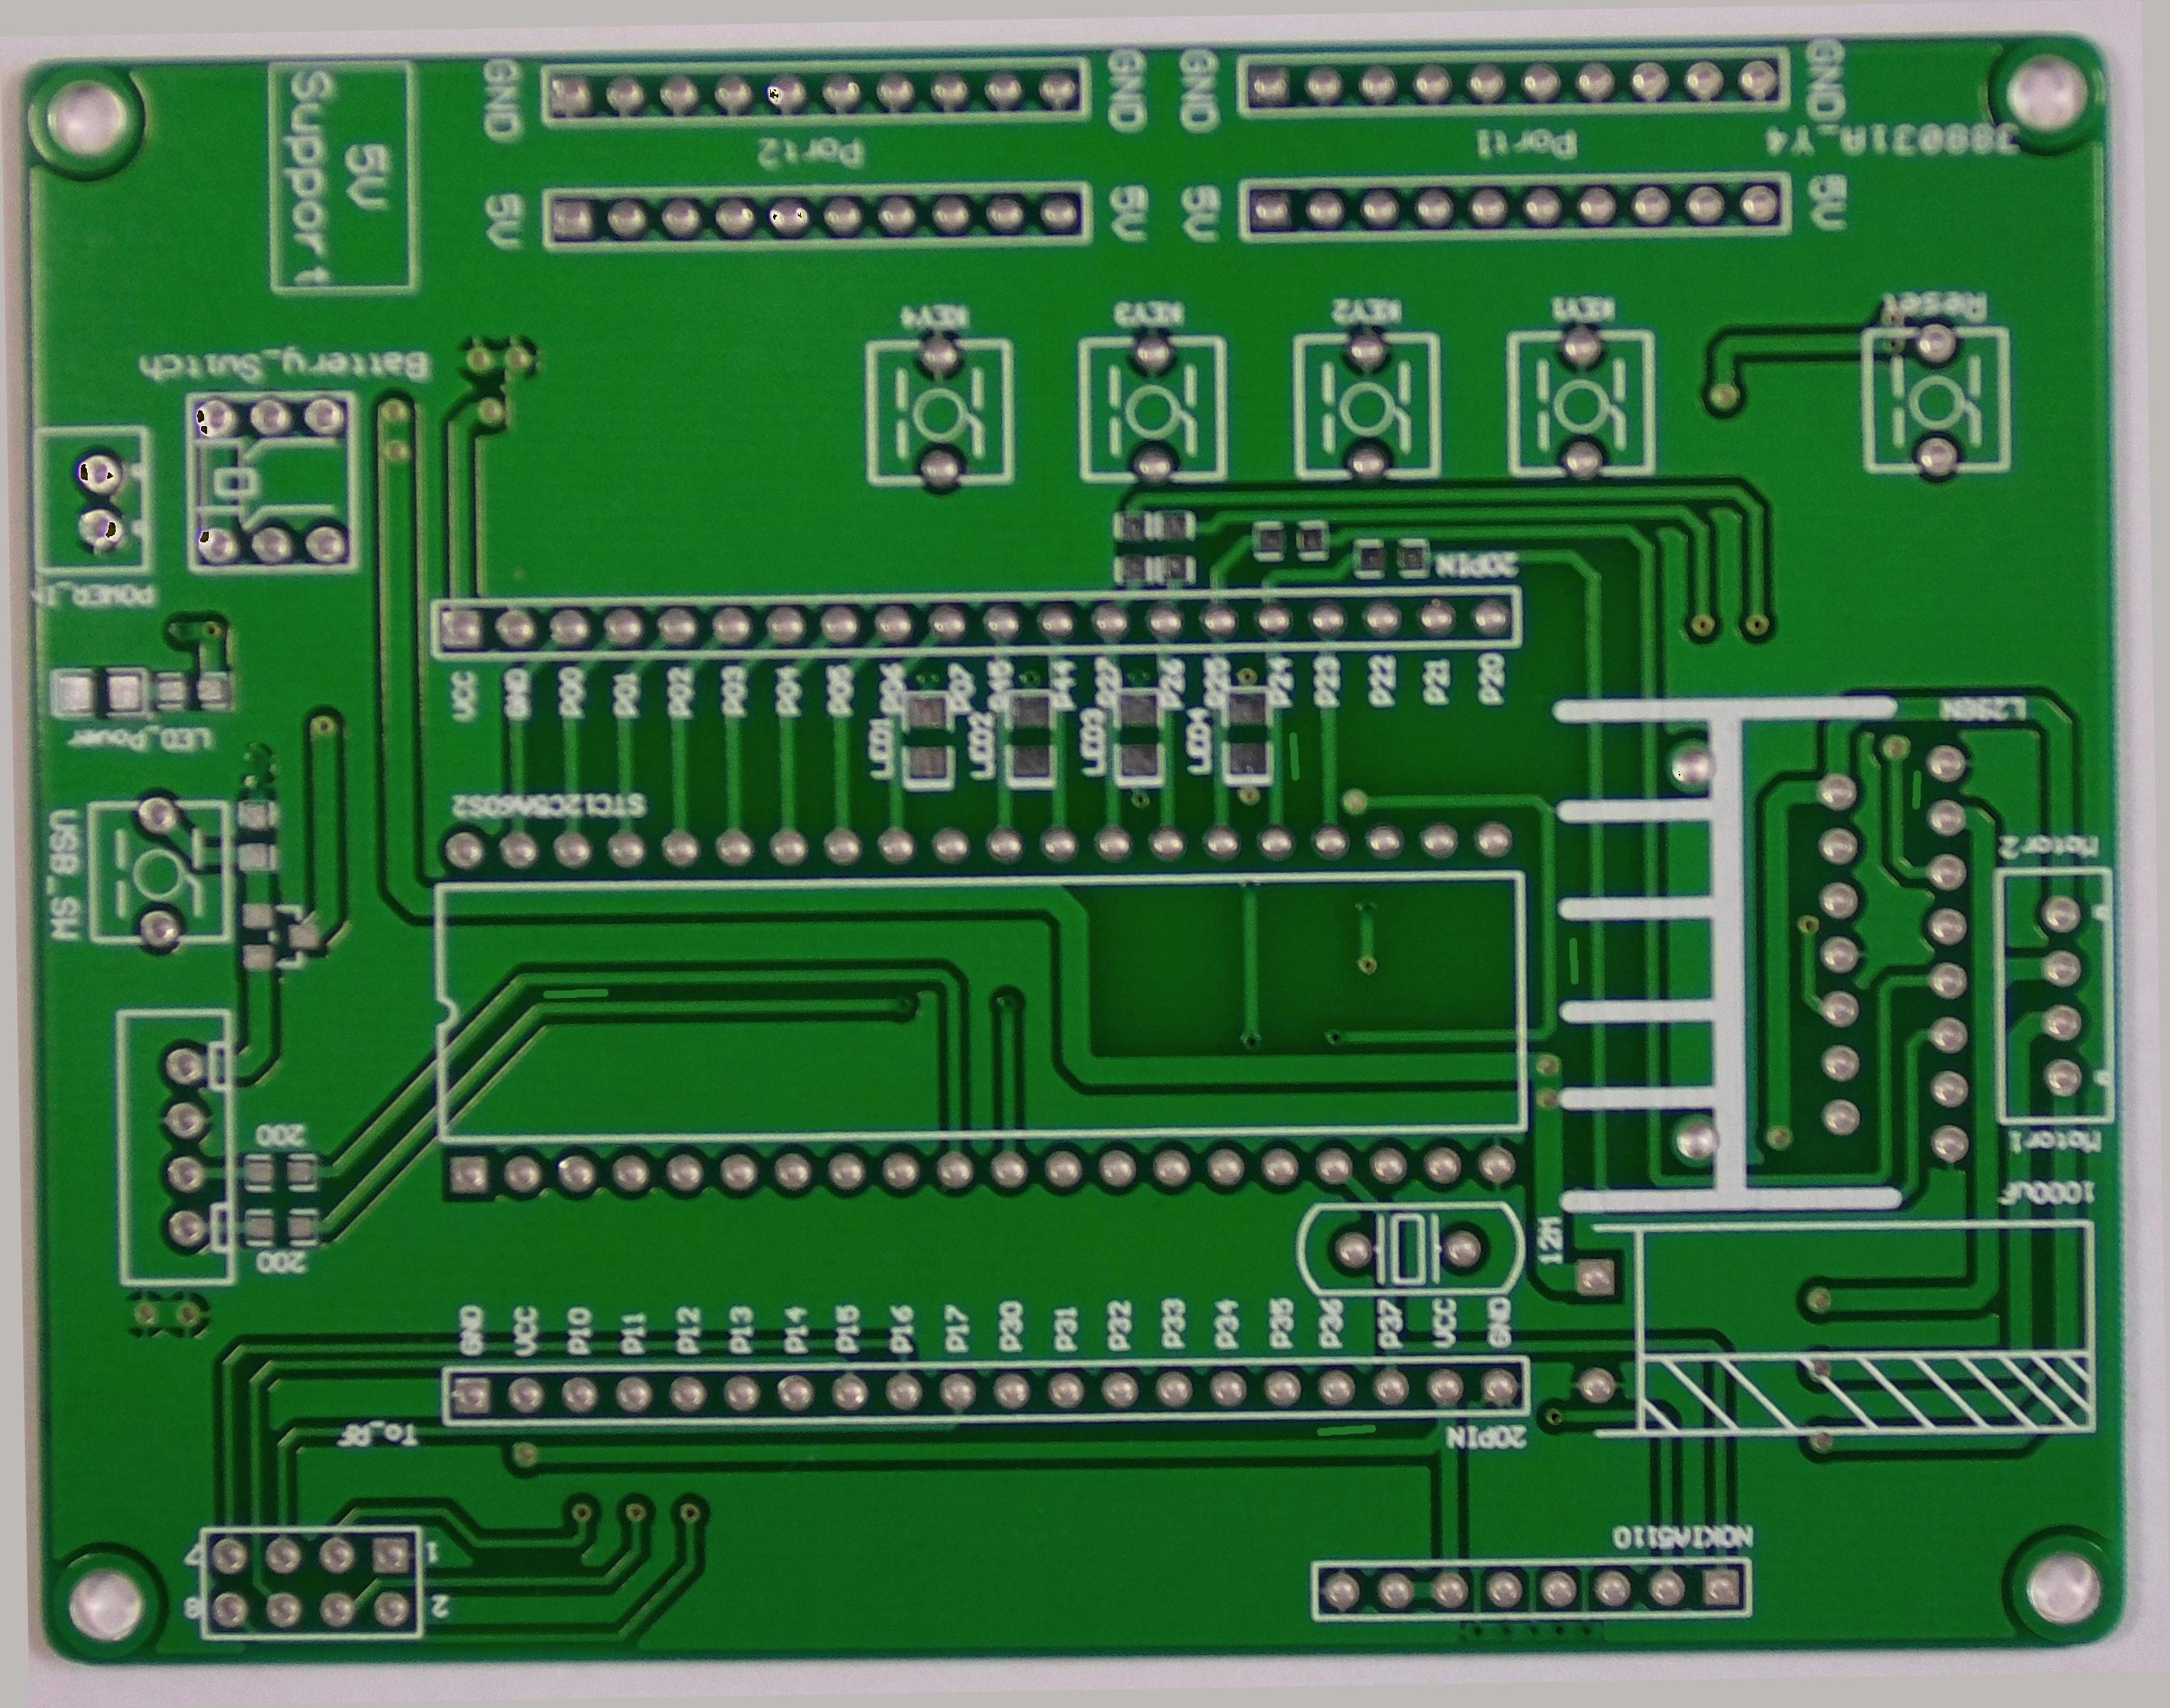spurious_copper: (530, 965, 618, 1016), (1300, 1409, 1390, 1454), (1893, 748, 1939, 819), (1554, 924, 1594, 995), (1275, 724, 1317, 789)
